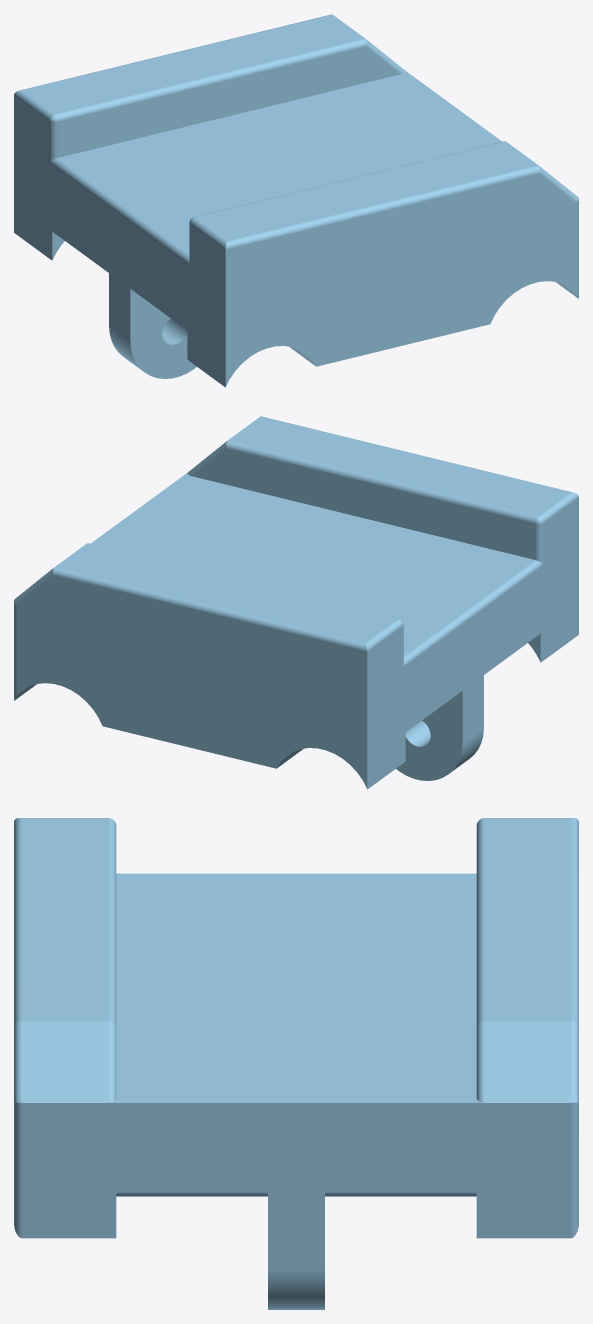
3 views of the same model, one above another, from view 1: azimuth 30°, elevation 25°; view 2: azimuth 150°, elevation 25°; view 3: azimuth 270°, elevation 25° (orthographic). The views are drawn at different scales.
Parts seen in each view (by area): view 1: ID2; view 2: ID2; view 3: ID2.
Part boxes in pixels (<box>): ID2: <box>14,14,578,387</box>; ID2: <box>14,416,578,789</box>; ID2: <box>14,818,578,1309</box>.
Size of the model in its own units: 1.34 by 1.38 by 0.7694.
